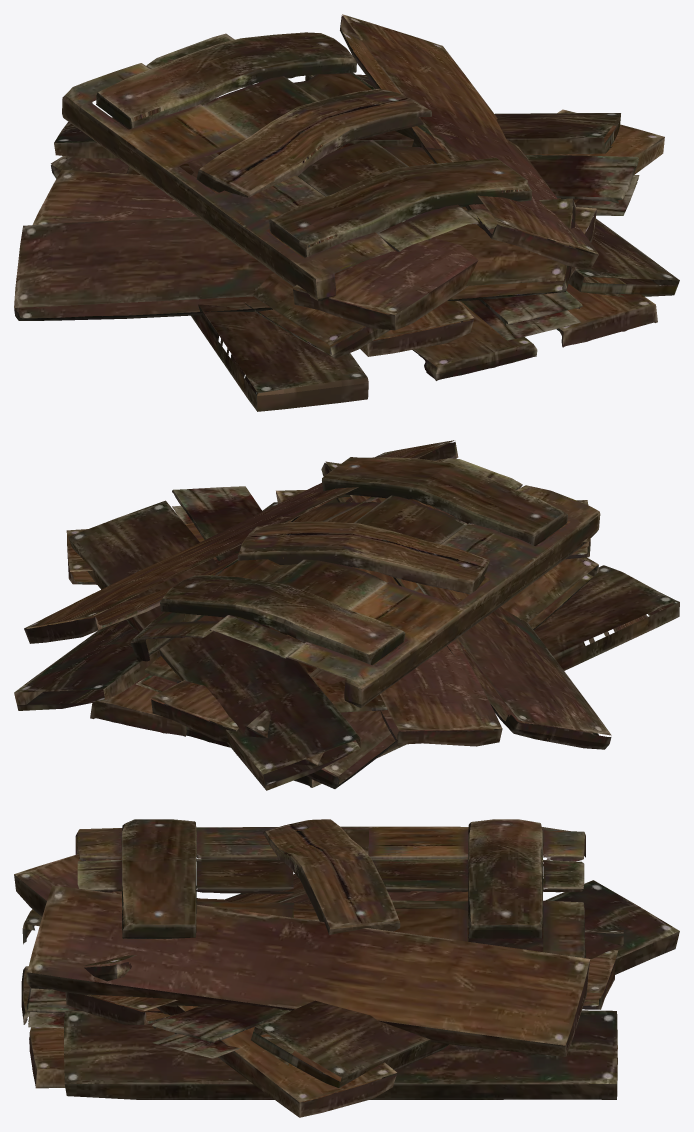
3 renders of one model, top to bottom at view 1: azimuth 30°, elevation 25°; view 2: azimuth 150°, elevation 25°; view 3: azimuth 270°, elevation 25°, orthographic. The views are drawn at different scales.
Visible parts, largest first — view 1: SM_Garou_Crate_03_LOD0; view 2: SM_Garou_Crate_03_LOD0; view 3: SM_Garou_Crate_03_LOD0.
Part boxes in pixels (x1=…): SM_Garou_Crate_03_LOD0: x1=14, y1=14, x2=679, y2=411; SM_Garou_Crate_03_LOD0: x1=14, y1=440, x2=679, y2=790; SM_Garou_Crate_03_LOD0: x1=14, y1=819, x2=679, y2=1117.
Bounding box in the file's own units: 1.79 × 0.4394 × 1.69.
